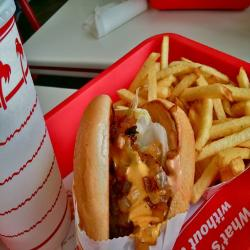burger: (73, 93, 192, 246)
fries: (192, 80, 246, 177)
